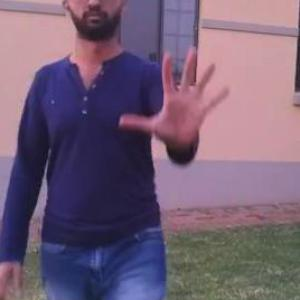follow_hand: (119, 43, 237, 150)
